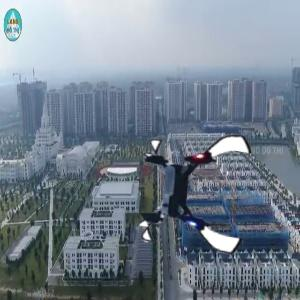drone: (136, 129, 259, 252)
